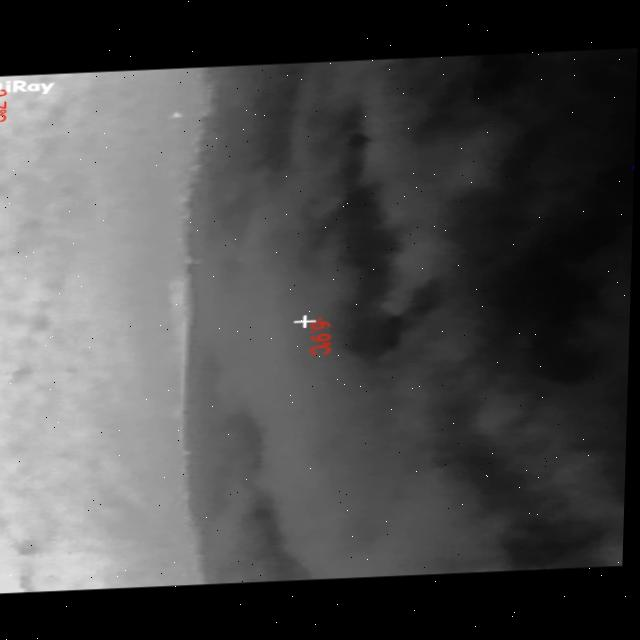drone: (169, 113, 187, 121)
